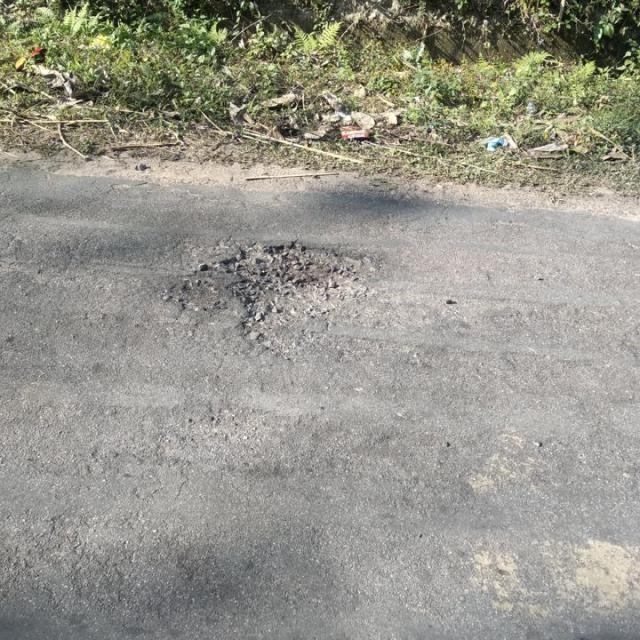minor_pothole: (208, 241, 385, 344)
